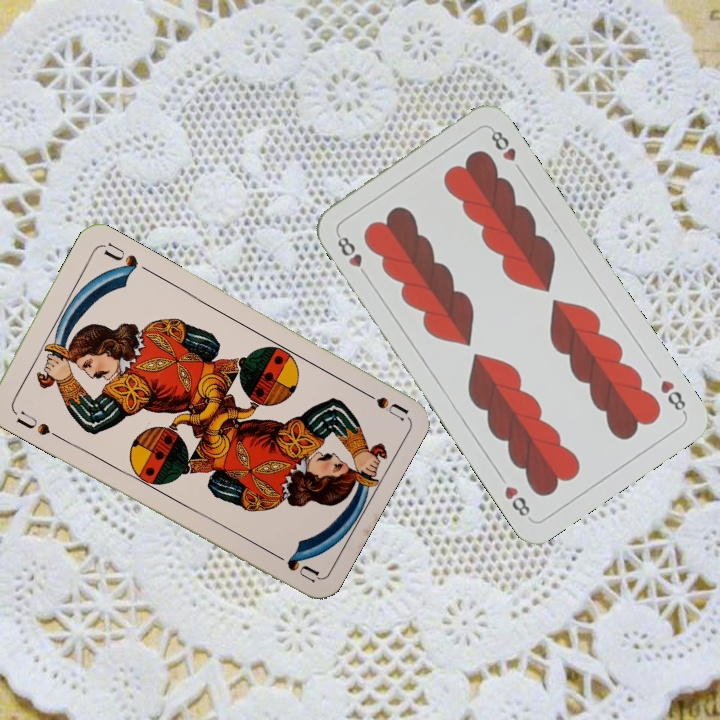H8: (333, 229, 372, 281), (656, 375, 689, 417)
SU: (353, 384, 410, 423), (12, 406, 62, 441)
